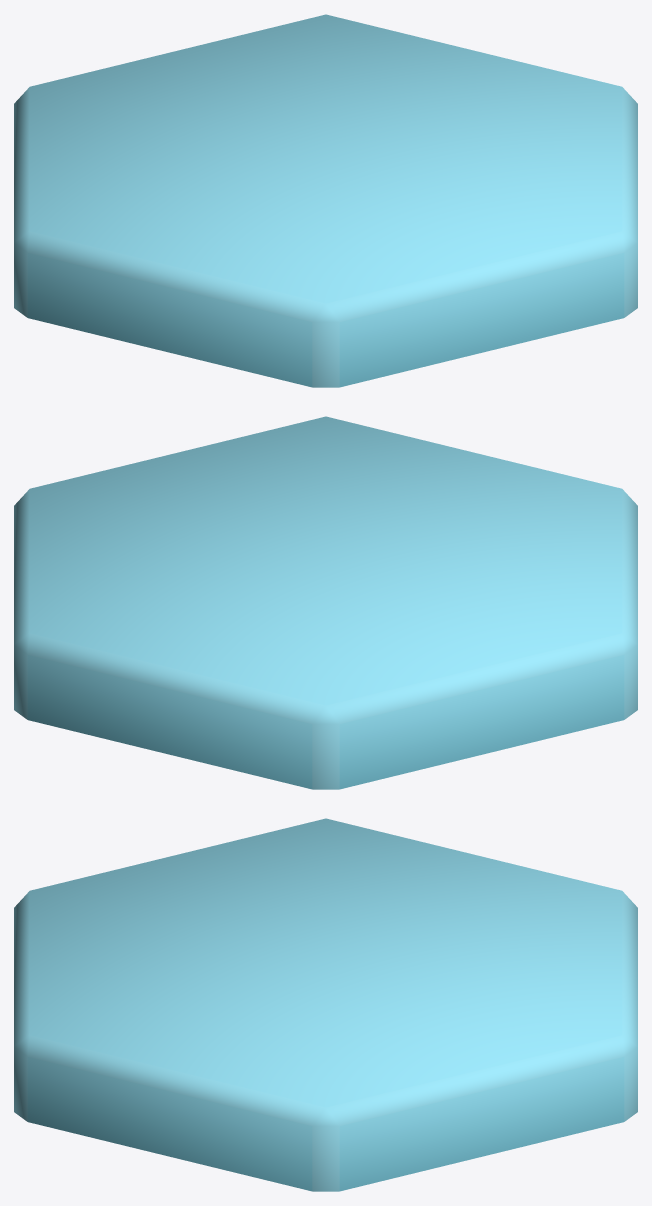
Rendered from bavel_spot_small_water.fbx.
3 views of the same model, one above another, from view 1: azimuth 30°, elevation 25°; view 2: azimuth 150°, elevation 25°; view 3: azimuth 270°, elevation 25° (orthographic).
Parts seen in each view (by area): view 1: bavel_spot_small_water; view 2: bavel_spot_small_water; view 3: bavel_spot_small_water.
Boxes of the visible parts, x1=… form: bavel_spot_small_water: x1=14, y1=14, x2=637, y2=387; bavel_spot_small_water: x1=14, y1=416, x2=637, y2=789; bavel_spot_small_water: x1=14, y1=818, x2=637, y2=1191.
Size of the model in its own units: 161 by 20.07 by 143.
1 material, 1 textured.
